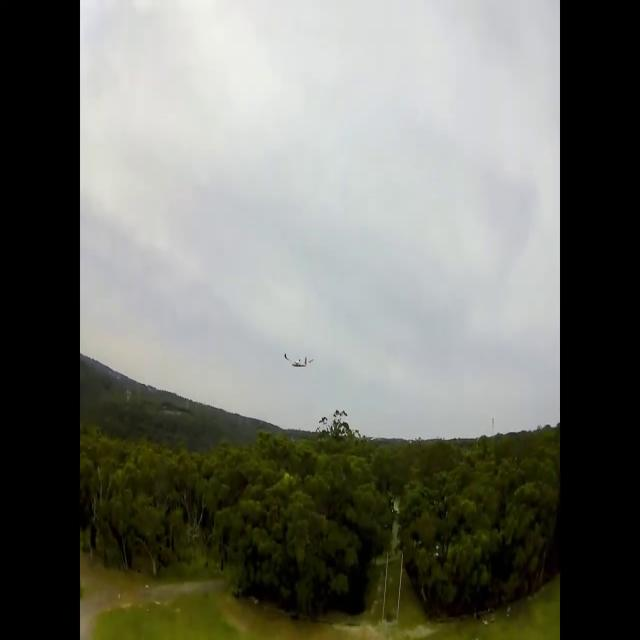iha: (284, 352, 313, 368)
